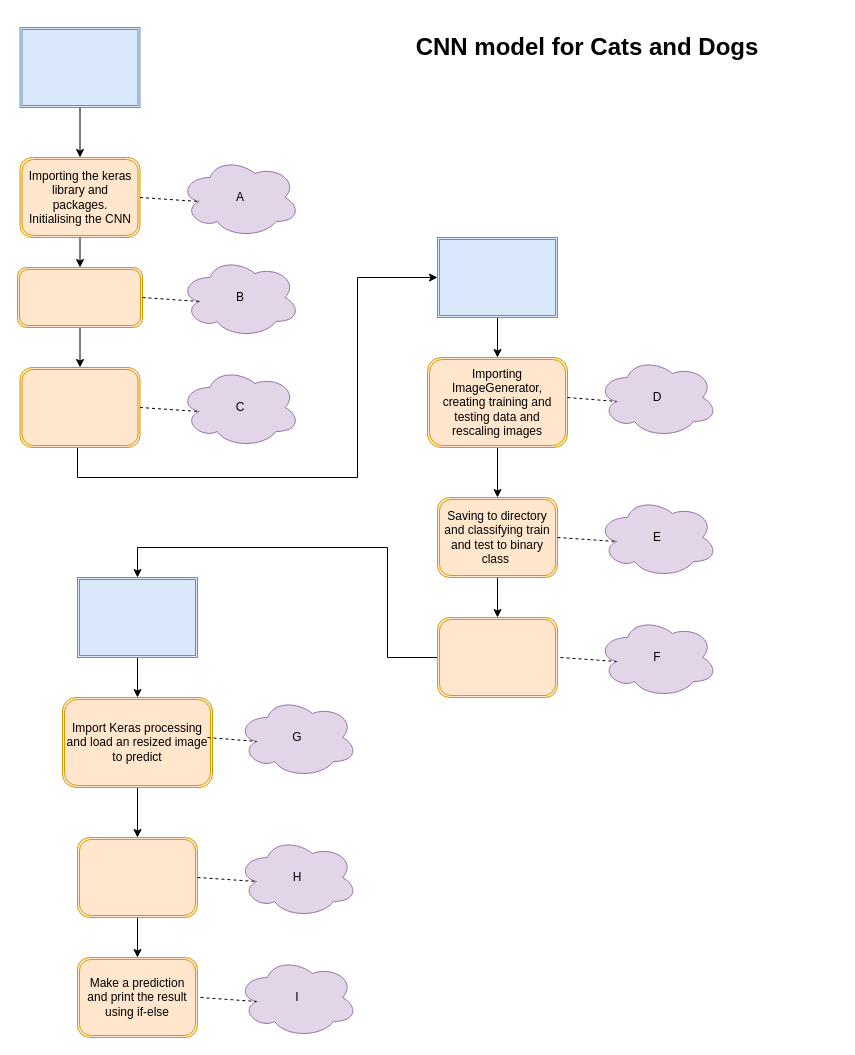
This 855x1055 diagram has some shape labels left out. The centre of each missing label's shape, as x and y in pixels:
1. Convolution 2. Pooling 3. Flatten: point 79,297
4. Full connection 5. Compiling the classifier: point 79,407
Convert the image to numpy array and add a fourth dimension: point 137,877
PART 1: point 79,67
PART 2: point 497,277
PART 3: point 137,617
Train the model for maximum accuracy: point 497,657
